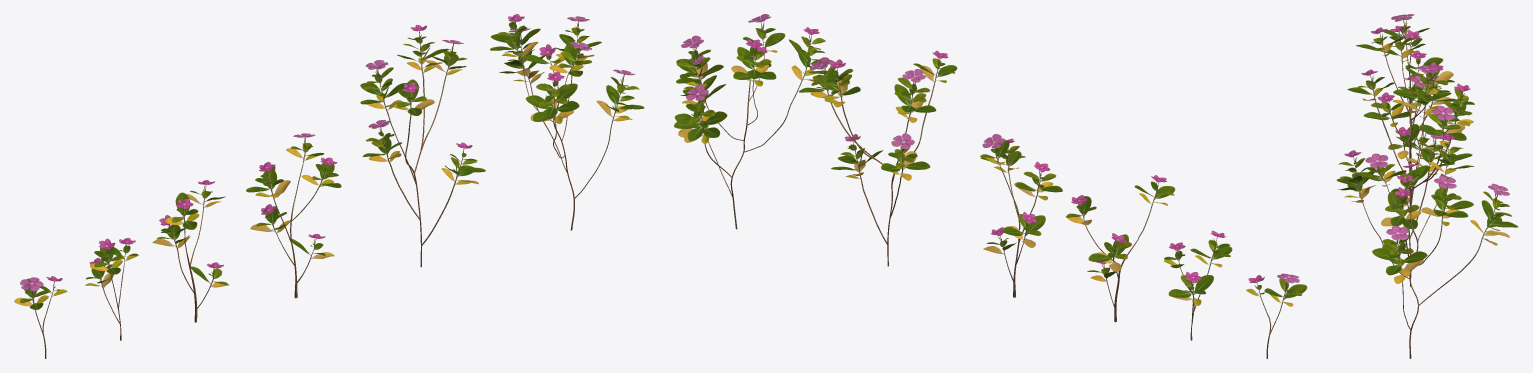
The model's file is polyhaven-periwinkle-plant.glb.
3 renders of one model, left to right at view 1: azimuth 30°, elevation 25°; view 2: azimuth 150°, elevation 25°; view 3: azimuth 270°, elevation 25°, orthographic. The views are drawn at different scales.
Parts seen in each view (by area): view 1: periwinkle_plant_01_LOD0_0, periwinkle_plant_02_LOD0_0, periwinkle_plant_03_LOD0_0, periwinkle_plant_04_LOD0_0, periwinkle_plant_05_LOD0_0, periwinkle_plant_06_LOD0_0; view 2: periwinkle_plant_01_LOD0_0, periwinkle_plant_02_LOD0_0, periwinkle_plant_03_LOD0_0, periwinkle_plant_04_LOD0_0, periwinkle_plant_05_LOD0_0, periwinkle_plant_06_LOD0_0; view 3: periwinkle_plant_01_LOD0_0, periwinkle_plant_02_LOD0_0, periwinkle_plant_03_LOD0_0, periwinkle_plant_04_LOD0_0, periwinkle_plant_05_LOD0_0, periwinkle_plant_06_LOD0_0.
Boxes of the visible parts, left/top/right/bottom form: periwinkle_plant_01_LOD0_0: left=490, top=14, right=644, bottom=230; periwinkle_plant_02_LOD0_0: left=360, top=25, right=485, bottom=267; periwinkle_plant_03_LOD0_0: left=246, top=133, right=341, bottom=298; periwinkle_plant_04_LOD0_0: left=152, top=180, right=229, bottom=322; periwinkle_plant_05_LOD0_0: left=85, top=238, right=138, bottom=340; periwinkle_plant_06_LOD0_0: left=14, top=276, right=67, bottom=358; periwinkle_plant_01_LOD0_0: left=674, top=14, right=833, bottom=229; periwinkle_plant_02_LOD0_0: left=799, top=50, right=957, bottom=266; periwinkle_plant_03_LOD0_0: left=980, top=134, right=1062, bottom=297; periwinkle_plant_04_LOD0_0: left=1066, top=175, right=1175, bottom=322; periwinkle_plant_05_LOD0_0: left=1164, top=230, right=1232, bottom=340; periwinkle_plant_06_LOD0_0: left=1246, top=273, right=1307, bottom=358; periwinkle_plant_01_LOD0_0: left=1336, top=133, right=1518, bottom=358; periwinkle_plant_02_LOD0_0: left=1347, top=65, right=1474, bottom=286; periwinkle_plant_03_LOD0_0: left=1363, top=75, right=1441, bottom=207; periwinkle_plant_04_LOD0_0: left=1356, top=27, right=1455, bottom=171; periwinkle_plant_05_LOD0_0: left=1377, top=25, right=1454, bottom=123; periwinkle_plant_06_LOD0_0: left=1383, top=14, right=1429, bottom=103.
Bounding box in the file's own units: 1.24 × 0.4107 × 0.3208.
Materials: 1 (1 with a texture image).
